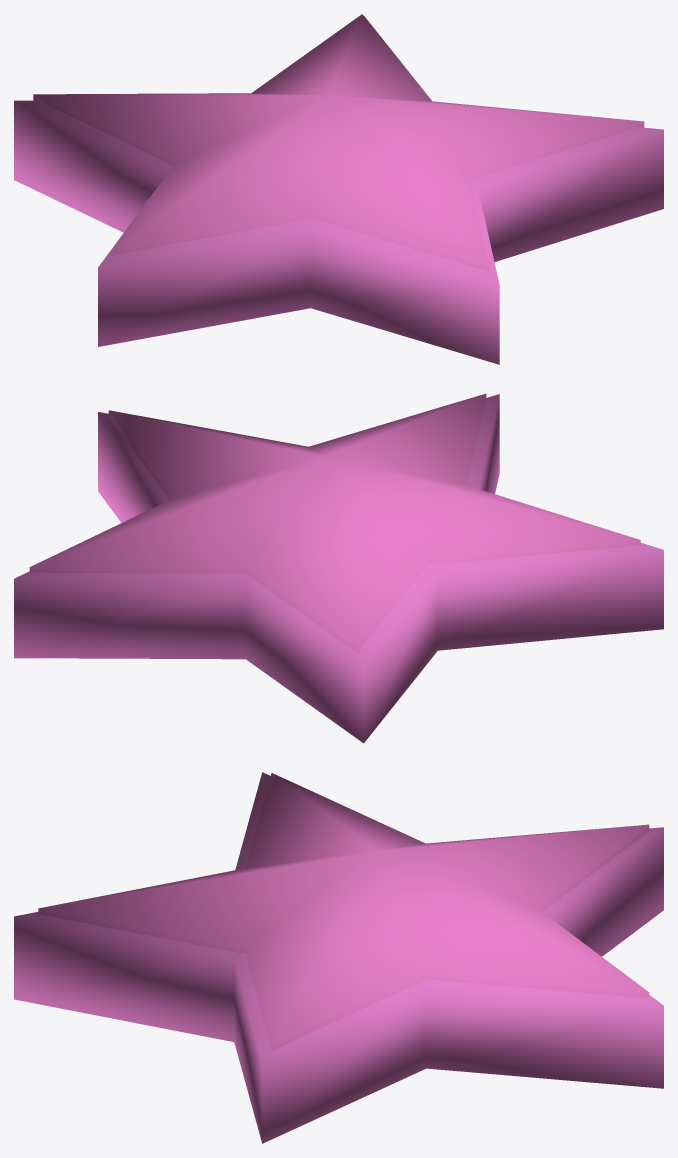
Rendered from pinkstar.glb.
The picture shows the model from 3 angles, top to bottom: view 1: azimuth 30°, elevation 25°; view 2: azimuth 150°, elevation 25°; view 3: azimuth 270°, elevation 25°; orthographic projection. The views are drawn at different scales.
Parts seen in each view (by area): view 1: star.001, star; view 2: star, star.001; view 3: star, star.001.
Boxes of the visible parts, box(x1,y1,x2,y2) form: star.001: box(14, 15, 663, 364); star: box(33, 14, 644, 273); star: box(29, 393, 640, 653); star.001: box(14, 394, 663, 743); star: box(38, 773, 649, 1050); star.001: box(14, 772, 663, 1143).
Bounding box in the file's own units: 2.02 × 0.6854 × 1.92.
